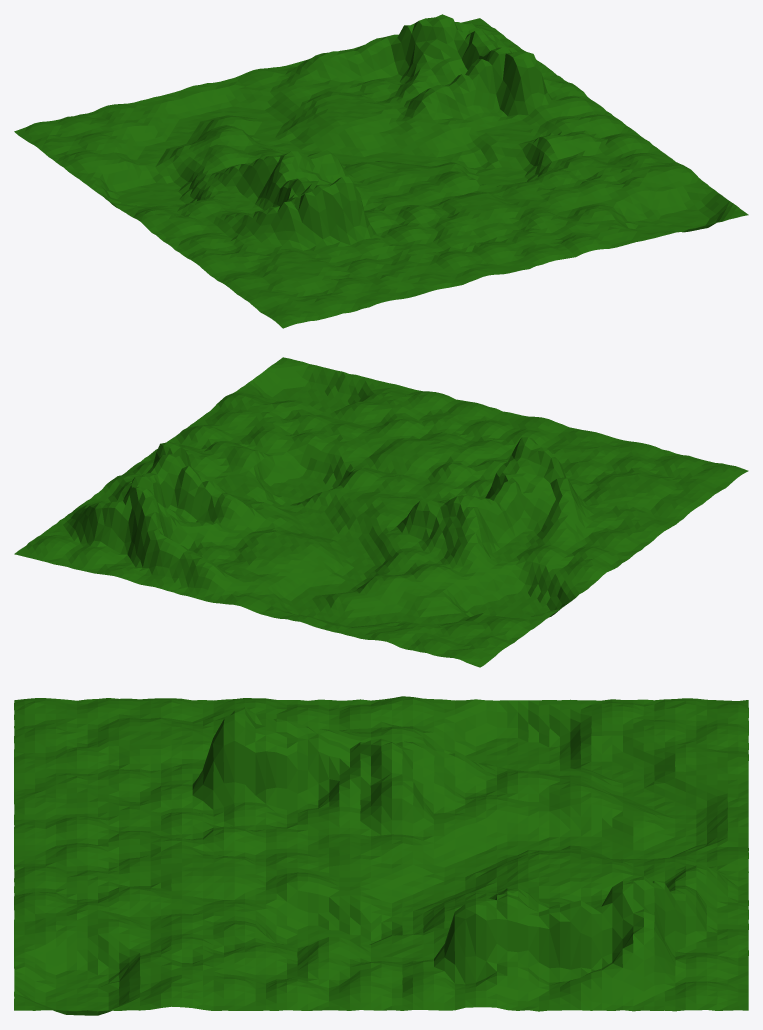
The model's file is Map1.obj.
The picture shows the model from 3 angles, top to bottom: view 1: azimuth 30°, elevation 25°; view 2: azimuth 150°, elevation 25°; view 3: azimuth 270°, elevation 25°; orthographic projection. The views are drawn at different scales.
Visible parts, largest first — view 1: Plane; view 2: Plane; view 3: Plane.
Part boxes in pixels (bbox=[...]): Plane: bbox=[14, 14, 748, 328]; Plane: bbox=[14, 357, 748, 667]; Plane: bbox=[14, 696, 748, 1015].
Size of the model in its own units: 21.4 by 3.39 by 21.39.
